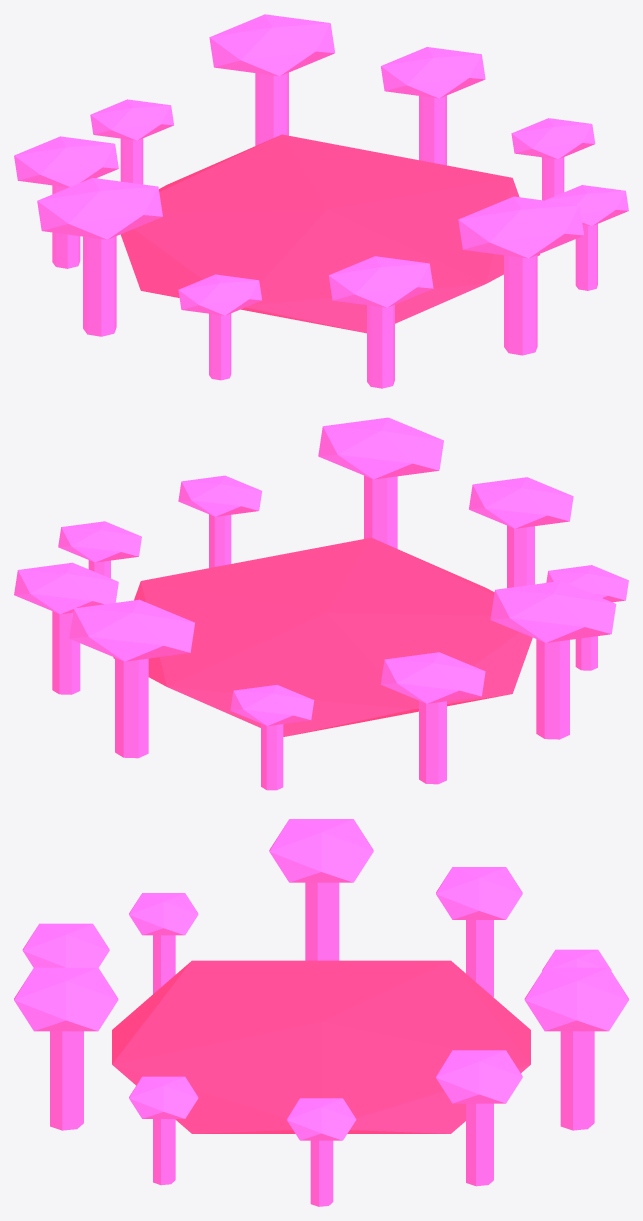
Rendered from df_v2_glowing_mushroom_ring_a.glb.
The picture shows the model from 3 angles, top to bottom: view 1: azimuth 30°, elevation 25°; view 2: azimuth 150°, elevation 25°; view 3: azimuth 270°, elevation 25°; orthographic projection. The views are drawn at different scales.
Visible parts, largest first — view 1: low_magical_haze, ring_mushroom_8_cap, ring_mushroom_5_cap, ring_mushroom_2_cap, ring_mushroom_7_cap, ring_mushroom_1_cap, ring_mushroom_4_cap, ring_mushroom_5_stem, ring_mushroom_8_stem, ring_mushroom_3_cap, ring_mushroom_6_cap, ring_mushroom_0_cap (+9 smaller); view 2: low_magical_haze, ring_mushroom_5_cap, ring_mushroom_8_cap, ring_mushroom_2_cap, ring_mushroom_7_cap, ring_mushroom_4_cap, ring_mushroom_1_cap, ring_mushroom_5_stem, ring_mushroom_2_stem, ring_mushroom_0_cap, ring_mushroom_3_cap, ring_mushroom_9_cap (+8 smaller); view 3: low_magical_haze, ring_mushroom_2_cap, ring_mushroom_8_cap, ring_mushroom_5_cap, ring_mushroom_1_cap, ring_mushroom_4_cap, ring_mushroom_2_stem, ring_mushroom_8_stem, ring_mushroom_7_cap, ring_mushroom_5_stem, ring_mushroom_9_cap, ring_mushroom_0_cap (+7 smaller).
Part boxes in pixels (<box>): low_magical_haze: <box>120,134,539,333</box>; ring_mushroom_8_cap: <box>458,196,583,258</box>; ring_mushroom_5_cap: <box>37,178,162,239</box>; ring_mushroom_2_cap: <box>209,14,334,76</box>; ring_mushroom_7_cap: <box>328,256,433,307</box>; ring_mushroom_1_cap: <box>380,47,485,98</box>; ring_mushroom_4_cap: <box>14,136,118,187</box>; ring_mushroom_5_stem: <box>83,236,116,336</box>; ring_mushroom_8_stem: <box>504,255,537,355</box>; ring_mushroom_3_cap: <box>90,99,173,140</box>; ring_mushroom_6_cap: <box>178,274,261,315</box>; ring_mushroom_0_cap: <box>511,118,595,159</box>; low_magical_haze: <box>113,537,532,736</box>; ring_mushroom_5_cap: <box>490,581,616,642</box>; ring_mushroom_8_cap: <box>318,417,443,479</box>; ring_mushroom_2_cap: <box>69,599,194,661</box>; ring_mushroom_7_cap: <box>469,477,573,528</box>; ring_mushroom_4_cap: <box>380,652,485,703</box>; ring_mushroom_1_cap: <box>14,562,118,614</box>; ring_mushroom_5_stem: <box>536,639,569,739</box>; ring_mushroom_2_stem: <box>115,658,148,758</box>; ring_mushroom_0_cap: <box>58,521,141,562</box>; ring_mushroom_3_cap: <box>230,685,314,725</box>; ring_mushroom_9_cap: <box>178,475,262,516</box>; low_magical_haze: <box>112,960,530,1133</box>; ring_mushroom_2_cap: <box>524,967,628,1031</box>; ring_mushroom_8_cap: <box>14,967,118,1031</box>; ring_mushroom_5_cap: <box>269,819,373,882</box>; ring_mushroom_1_cap: <box>436,1050,522,1103</box>; ring_mushroom_4_cap: <box>436,867,522,919</box>; ring_mushroom_2_stem: <box>560,1031,594,1130</box>; ring_mushroom_8_stem: <box>50,1031,83,1130</box>; ring_mushroom_7_cap: <box>22,923,109,967</box>; ring_mushroom_5_stem: <box>305,882,339,960</box>; ring_mushroom_9_cap: <box>129,1076,198,1118</box>; ring_mushroom_0_cap: <box>286,1098,356,1140</box>.
Size of the model in its own units: 1.41 by 0.3398 by 1.33.
